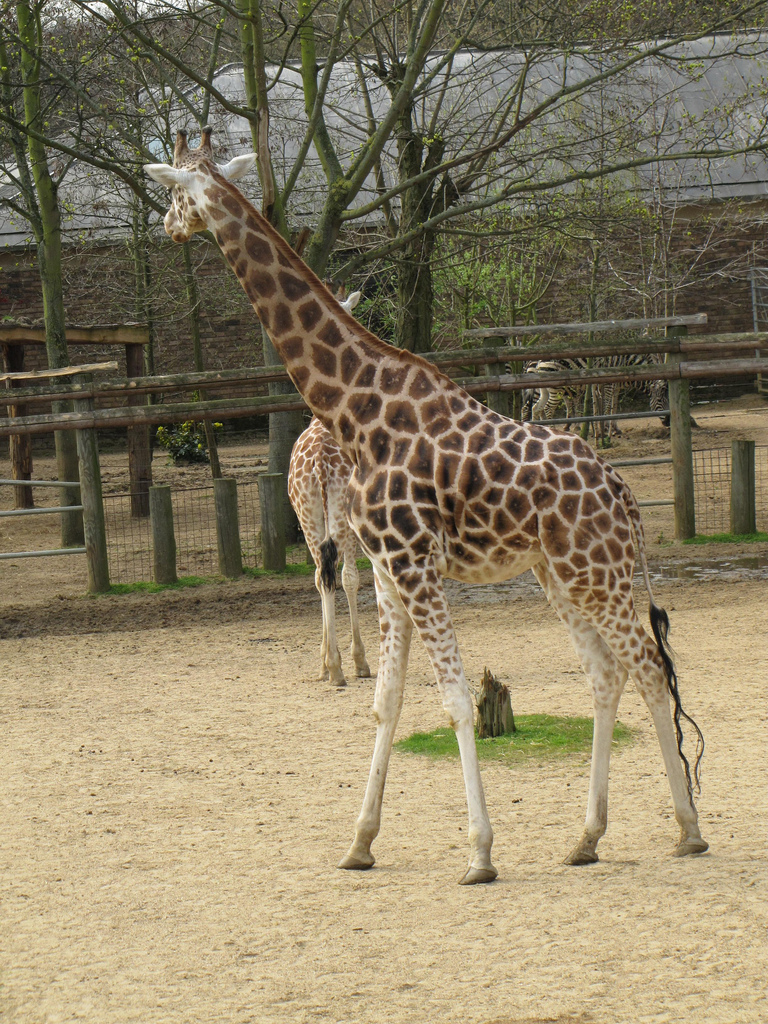giraffe: (156, 160, 737, 886), (270, 400, 371, 708)
